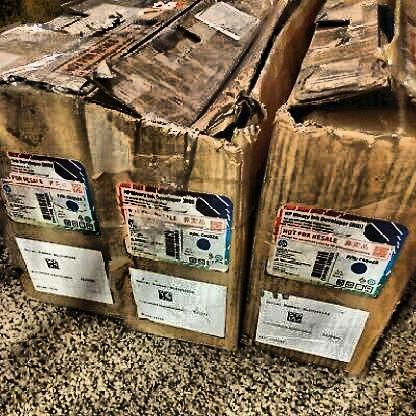defect parcel: (0, 0, 266, 208), (281, 0, 416, 183)
